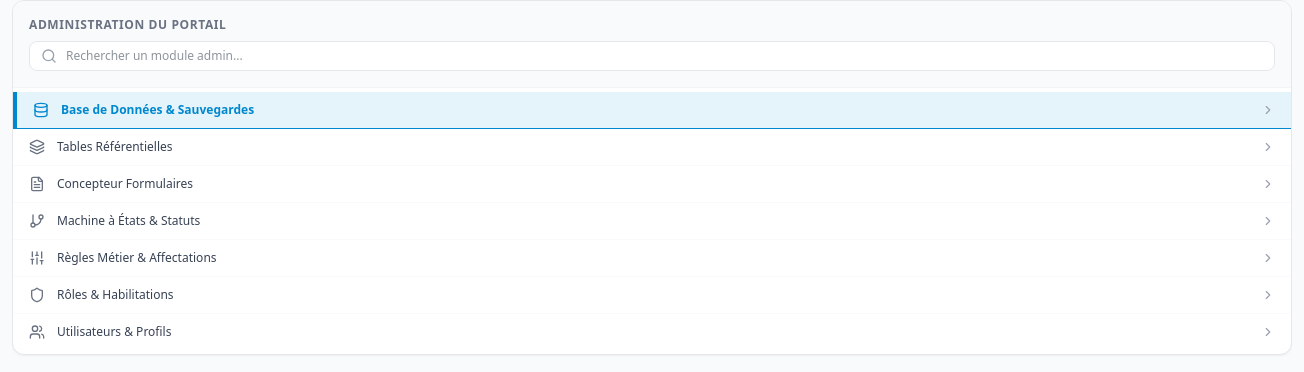
Test: User Story 5.1: AdminNavigation Component › filters modules based on search input
Type "Sauvegardes" into the field labelled "Rechercher un module" at (652, 56), box 29,41 -> 1275,71
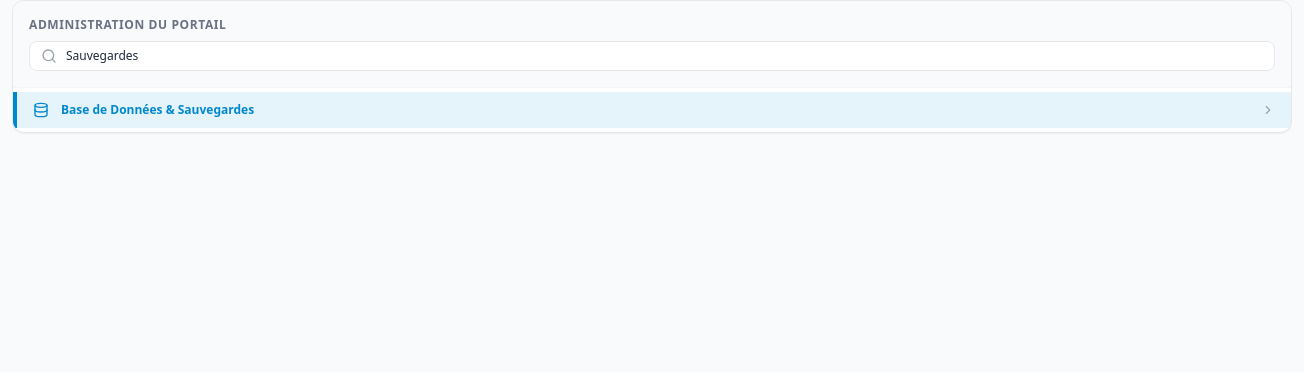
Expected: the text "Base de Données & Sauvegardes" is shown, 61,102 -> 254,118
Expected: the button "Tables Référentielles" is gone
